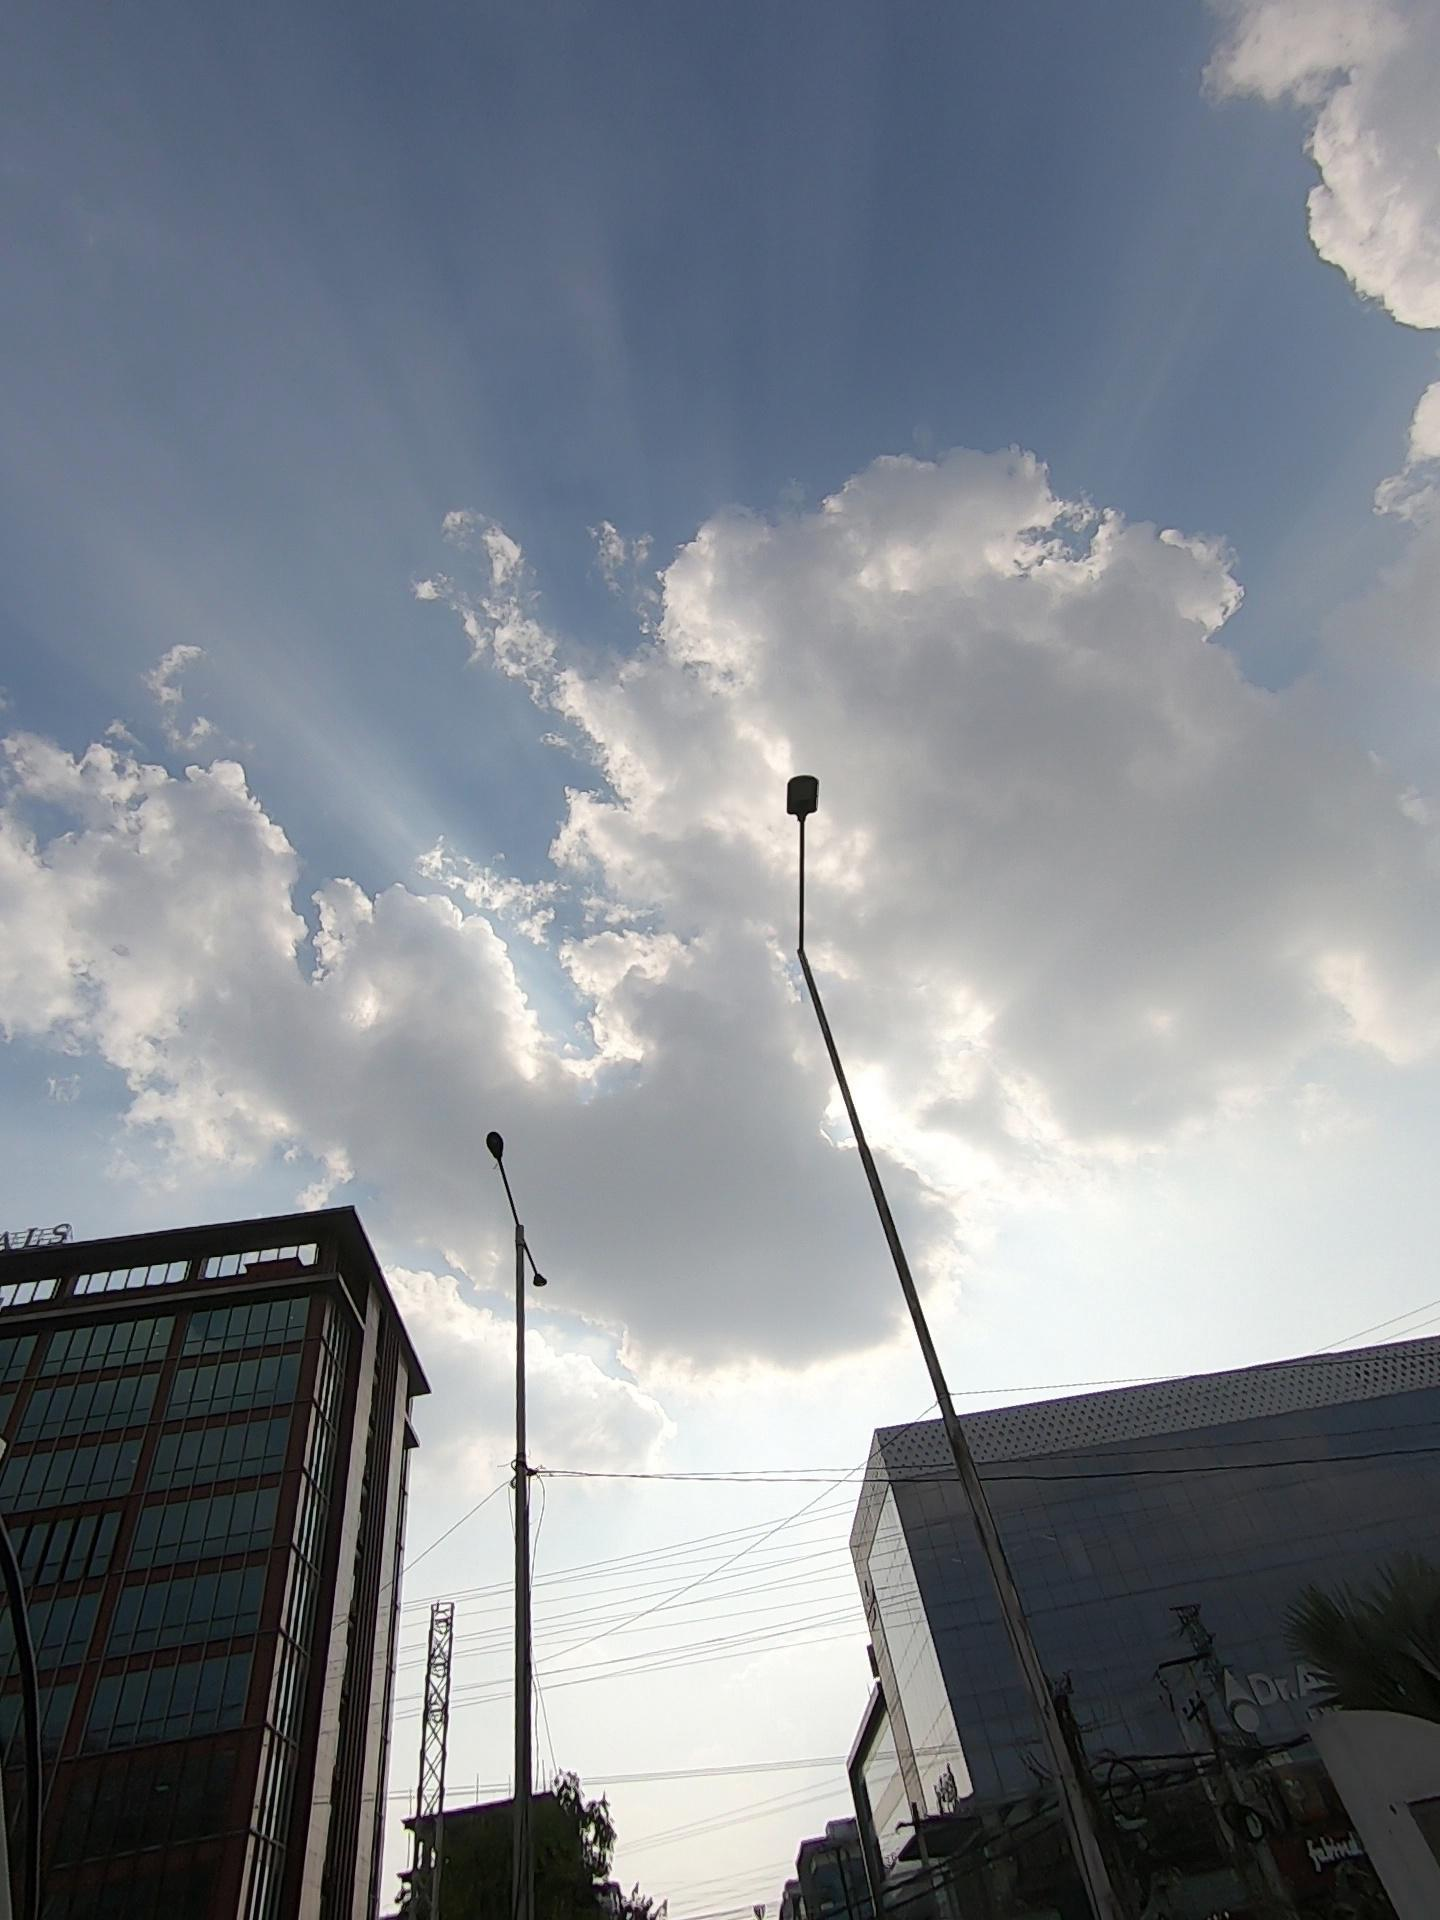off: (720, 691, 847, 1011)
